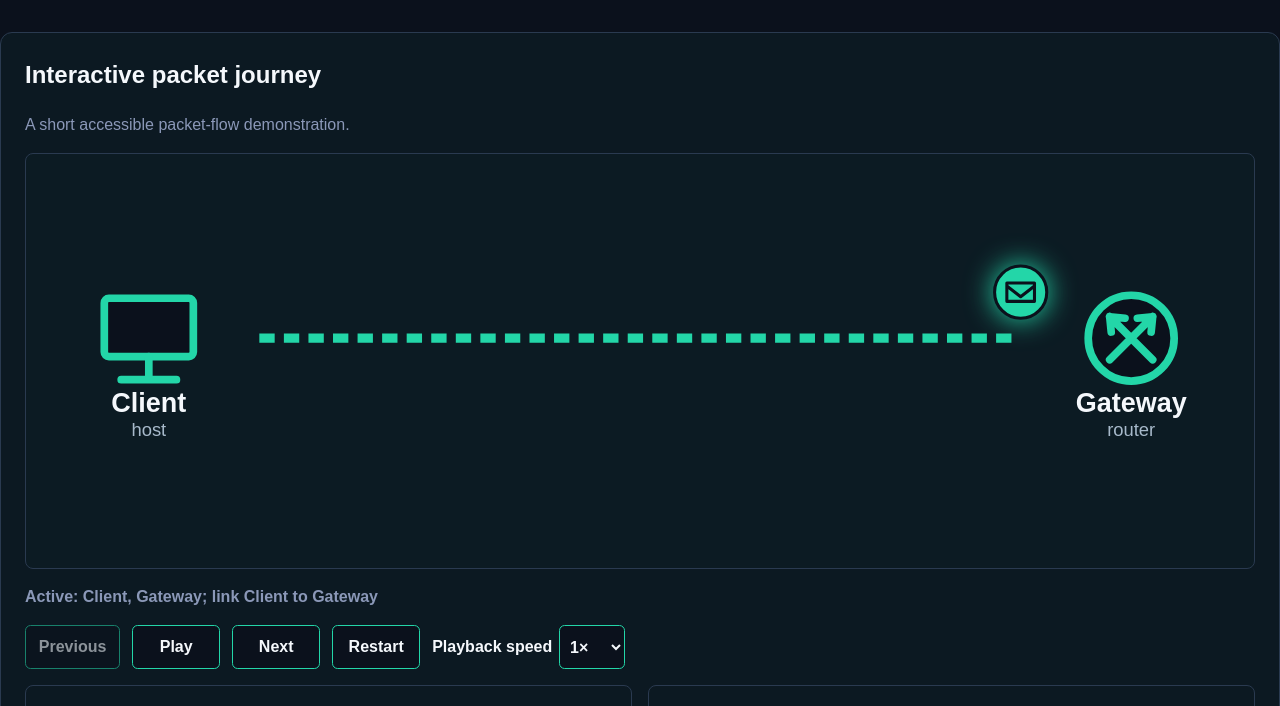
Test case: PacketFlowPlayer › unfolds ARP without an IP layer and ICMP as Ethernet containing IP
Expected: the heading "IP packet" is not shown
Click the button "Next" at (276, 647), box [232,625,320,669]
(page scrolled)
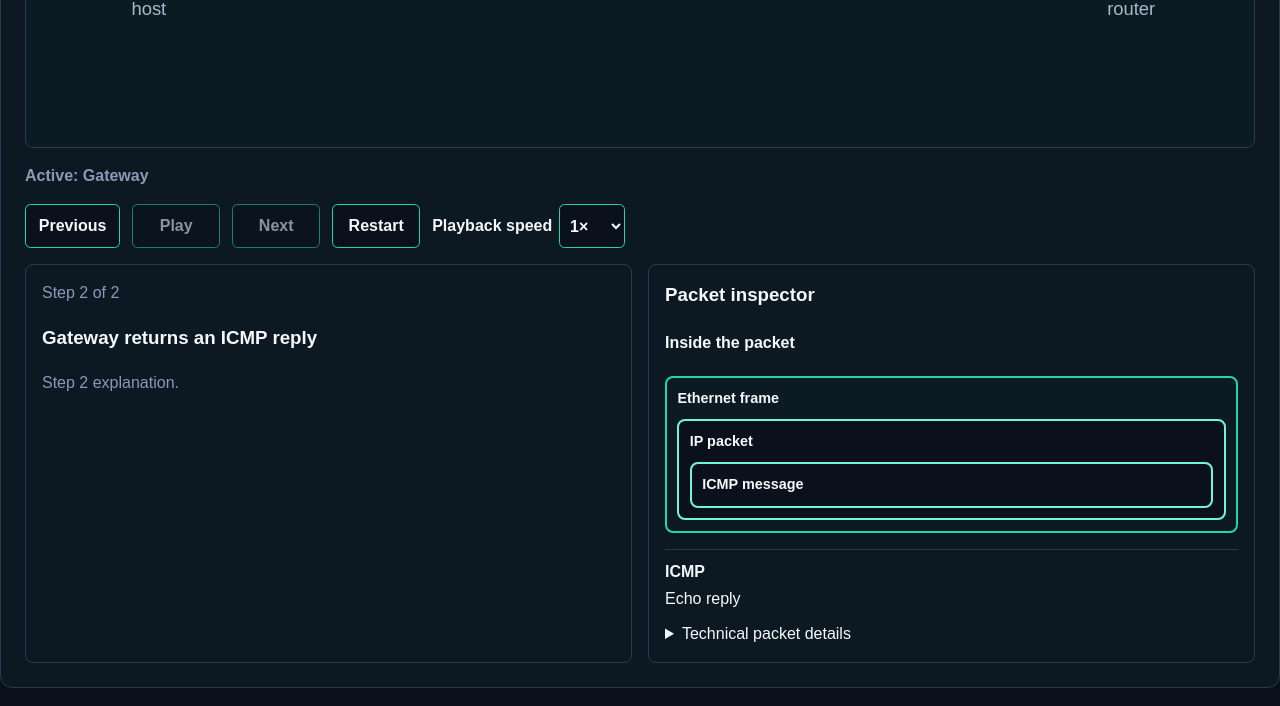
Expected: the heading "Ethernet frame" is shown, [677,390,779,406]
Expected: the heading "IP packet" is shown, [690,433,753,449]
Expected: the heading "ICMP message" is shown, [702,476,804,492]
